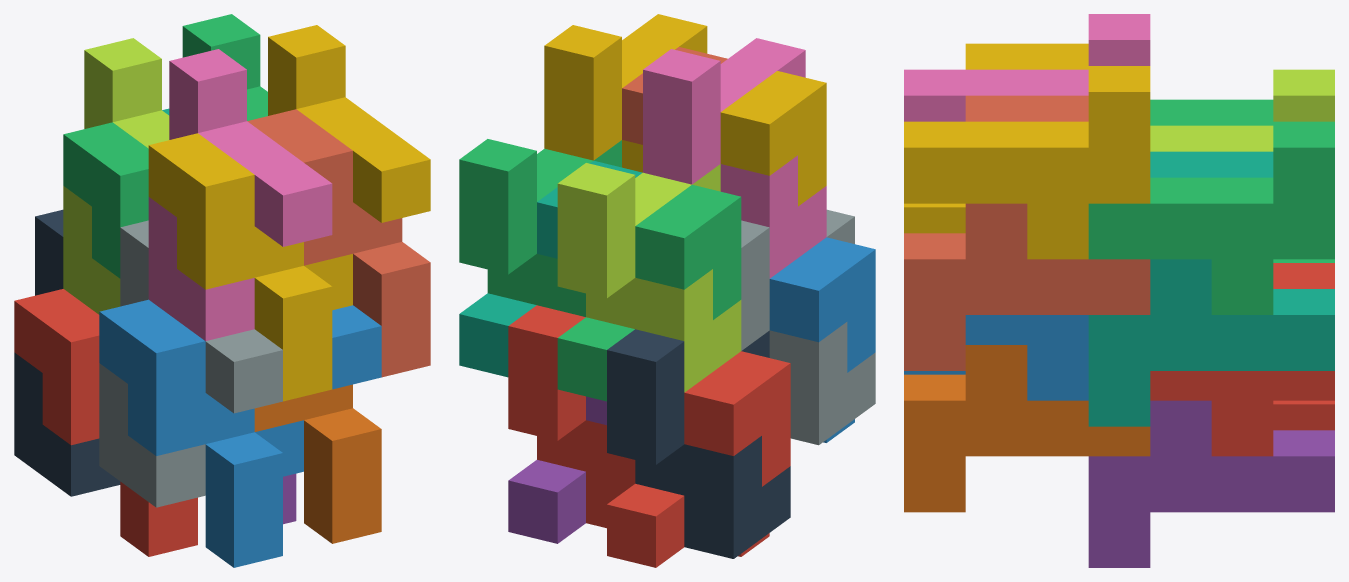
Rendered from tiling.obj.
The picture shows the model from 3 angles, left to right: view 1: azimuth 30°, elevation 25°; view 2: azimuth 150°, elevation 25°; view 3: azimuth 270°, elevation 25°; orthographic projection. The views are drawn at different scales.
Parts seen in each view (by area): view 1: copy_1_domain_2, copy_1_domain_4, copy_2_domain_4, copy_1_domain_8, copy_2_domain_8, copy_2_domain_2, copy_1_domain_1, copy_1_domain_6, copy_2_domain_3, copy_2_domain_1, copy_1_domain_3, copy_2_domain_6 (+2 smaller); view 2: copy_2_domain_1, copy_2_domain_3, copy_2_domain_4, copy_1_domain_1, copy_2_domain_7, copy_1_domain_3, copy_2_domain_8, copy_2_domain_5, copy_2_domain_2, copy_1_domain_2, copy_1_domain_4, copy_1_domain_5 (+2 smaller); view 3: copy_2_domain_8, copy_2_domain_7, copy_1_domain_7, copy_1_domain_8, copy_1_domain_5, copy_1_domain_6, copy_2_domain_5, copy_2_domain_4, copy_2_domain_6, copy_2_domain_3, copy_1_domain_4, copy_1_domain_3 (+1 smaller).
Boxes of the visible parts, x1=… form: copy_1_domain_2: x1=99, y1=299, x2=282, y2=567; copy_1_domain_4: x1=148, y1=133, x2=332, y2=401; copy_2_domain_4: x1=148, y1=49, x2=332, y2=341; copy_1_domain_8: x1=247, y1=109, x2=430, y2=377; copy_2_domain_8: x1=268, y1=25, x2=430, y2=310; copy_2_domain_2: x1=99, y1=220, x2=282, y2=507; copy_1_domain_1: x1=14, y1=289, x2=197, y2=556; copy_1_domain_6: x1=254, y1=384, x2=381, y2=543; copy_2_domain_3: x1=63, y1=38, x2=169, y2=314; copy_2_domain_1: x1=14, y1=209, x2=120, y2=496; copy_1_domain_3: x1=63, y1=122, x2=148, y2=278; copy_2_domain_6: x1=255, y1=305, x2=381, y2=476; copy_2_domain_1: x1=607, y1=329, x2=790, y2=558; copy_2_domain_3: x1=557, y1=163, x2=741, y2=392; copy_2_domain_4: x1=643, y1=38, x2=826, y2=278; copy_1_domain_1: x1=607, y1=351, x2=790, y2=567; copy_2_domain_7: x1=459, y1=139, x2=621, y2=316; copy_1_domain_3: x1=557, y1=184, x2=741, y2=401; copy_2_domain_8: x1=544, y1=14, x2=707, y2=172; copy_2_domain_5: x1=508, y1=305, x2=635, y2=528; copy_2_domain_2: x1=741, y1=209, x2=875, y2=445; copy_1_domain_2: x1=769, y1=237, x2=875, y2=442; copy_1_domain_4: x1=720, y1=71, x2=826, y2=206; copy_1_domain_5: x1=508, y1=396, x2=606, y2=543; copy_2_domain_8: x1=904, y1=66, x2=1150, y2=259; copy_2_domain_7: x1=1088, y1=121, x2=1334, y2=314; copy_1_domain_7: x1=1088, y1=151, x2=1334, y2=426; copy_1_domain_8: x1=904, y1=95, x2=1150, y2=370; copy_1_domain_5: x1=1088, y1=400, x2=1334, y2=567; copy_1_domain_6: x1=904, y1=345, x2=1150, y2=512; copy_2_domain_5: x1=1150, y1=263, x2=1334, y2=456; copy_2_domain_4: x1=904, y1=14, x2=1150, y2=121; copy_2_domain_6: x1=965, y1=315, x2=1088, y2=400; copy_2_domain_3: x1=1150, y1=69, x2=1334, y2=151; copy_1_domain_4: x1=904, y1=43, x2=1088, y2=233; copy_1_domain_3: x1=1150, y1=99, x2=1334, y2=262.
Bounding box in the file's own units: 5 × 9 × 7.
